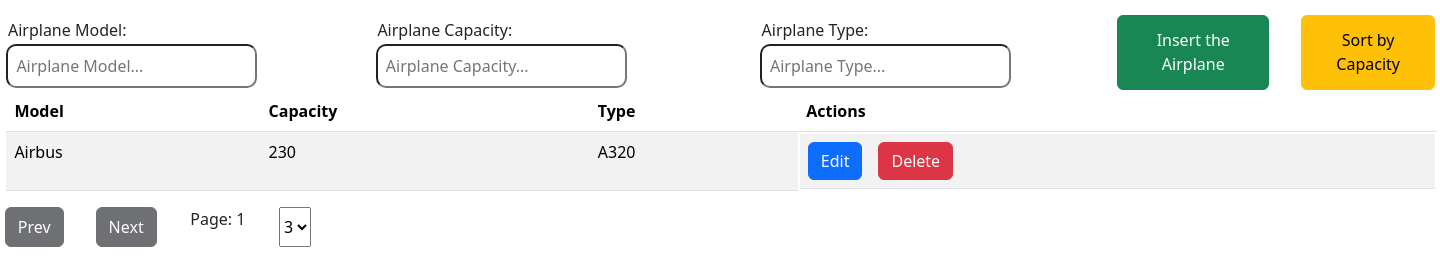
Test case: test update
Click the button "Edit": (835, 161) 808,142 -> 862,180
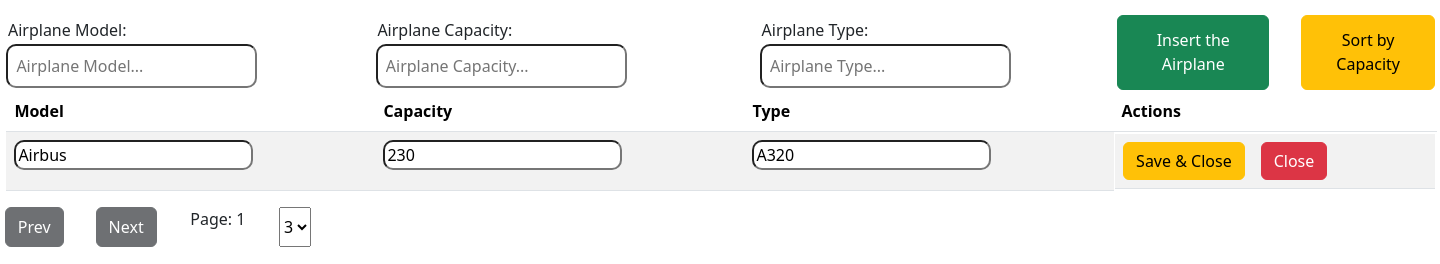
In the 1st field with placeholder "Airbus": (134, 155) 14,140 -> 253,170, type "Cessna"
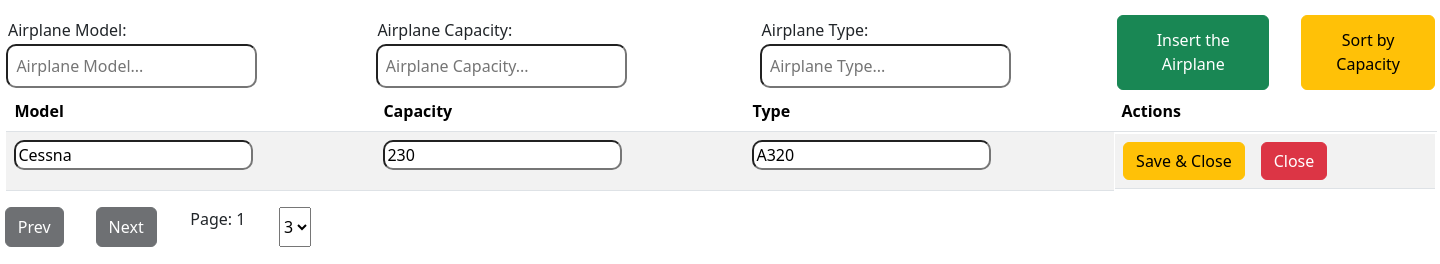
In the number field with placeholder "230": (503, 155) 383,140 -> 622,170, type "2"
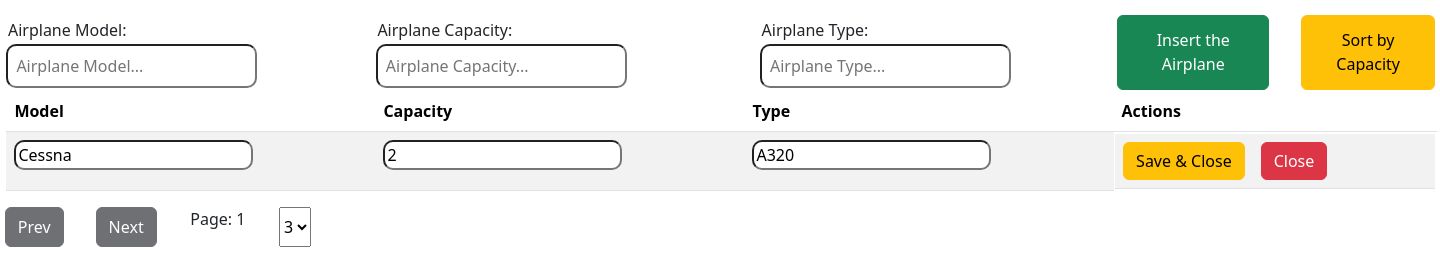
In the 2nd field with placeholder "A320": (872, 155) 752,140 -> 992,170, type "Type A"
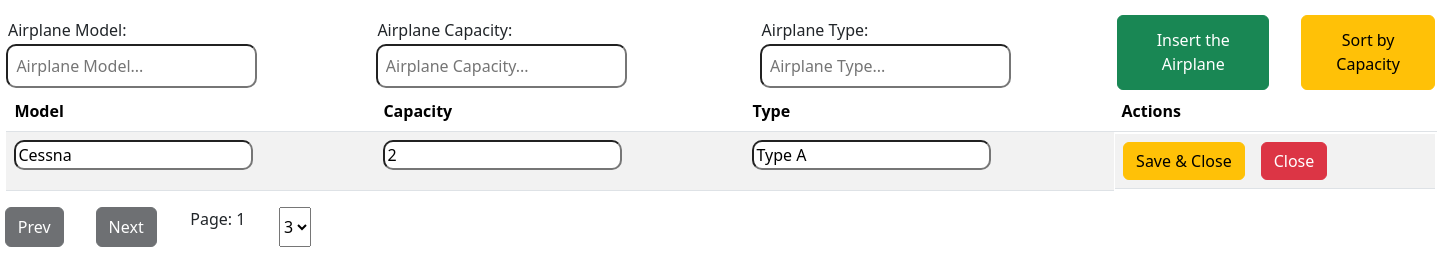
Click the button "Save & Close": (1184, 161) 1123,142 -> 1245,180
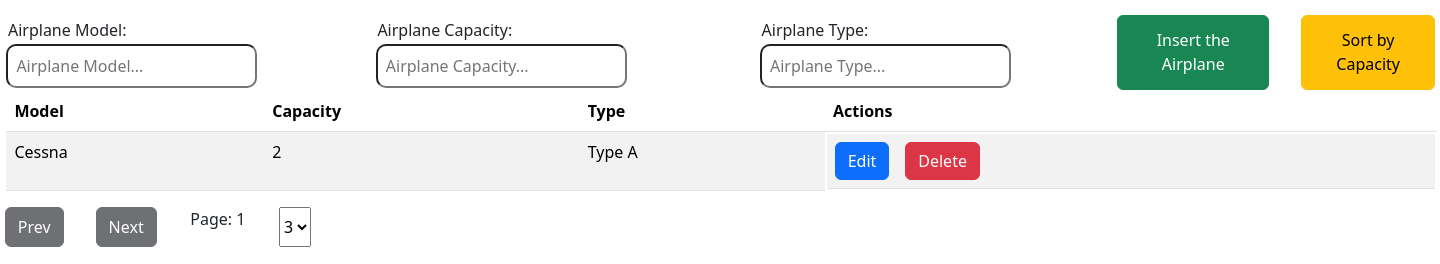
Expected: the text "Cessna" is shown, 6,132 -> 264,190
Expected: the text "2" is shown, 264,132 -> 580,190
Expected: the text "Type A" is shown, 580,132 -> 825,190
